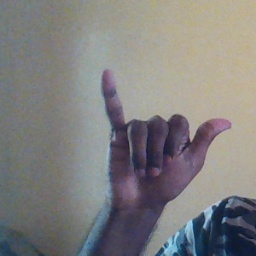J: (98, 68, 234, 203)
